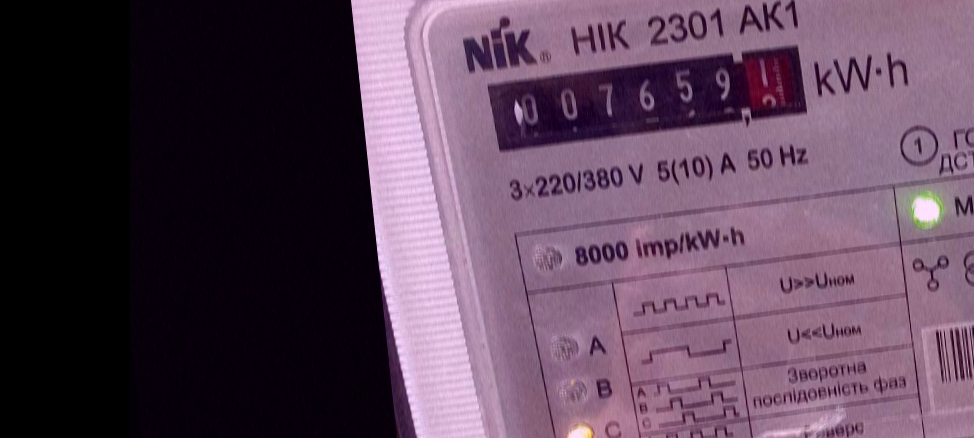0: (558, 84, 585, 123), (519, 88, 544, 129)
1: (756, 53, 775, 90)
5: (675, 66, 699, 105)
6: (636, 75, 661, 113)
7: (596, 79, 621, 119)
9: (713, 64, 738, 103)
screen: (479, 38, 821, 161)
